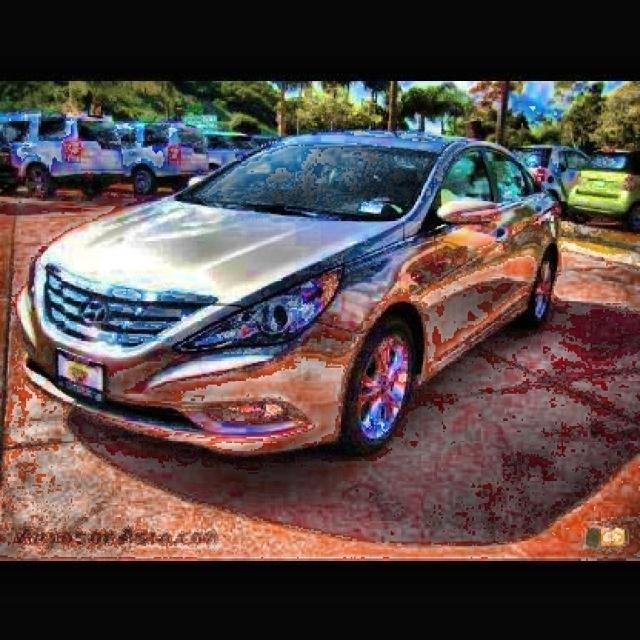green: (572, 145, 640, 227)
silver: (16, 127, 561, 459)
